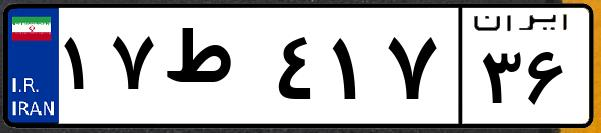1: (330, 28, 385, 110), (57, 26, 110, 100)
3: (475, 38, 525, 113)
4: (270, 28, 330, 110)
6: (525, 38, 570, 115)
7: (385, 28, 445, 110), (110, 28, 158, 98)
ط: (158, 20, 270, 120)
